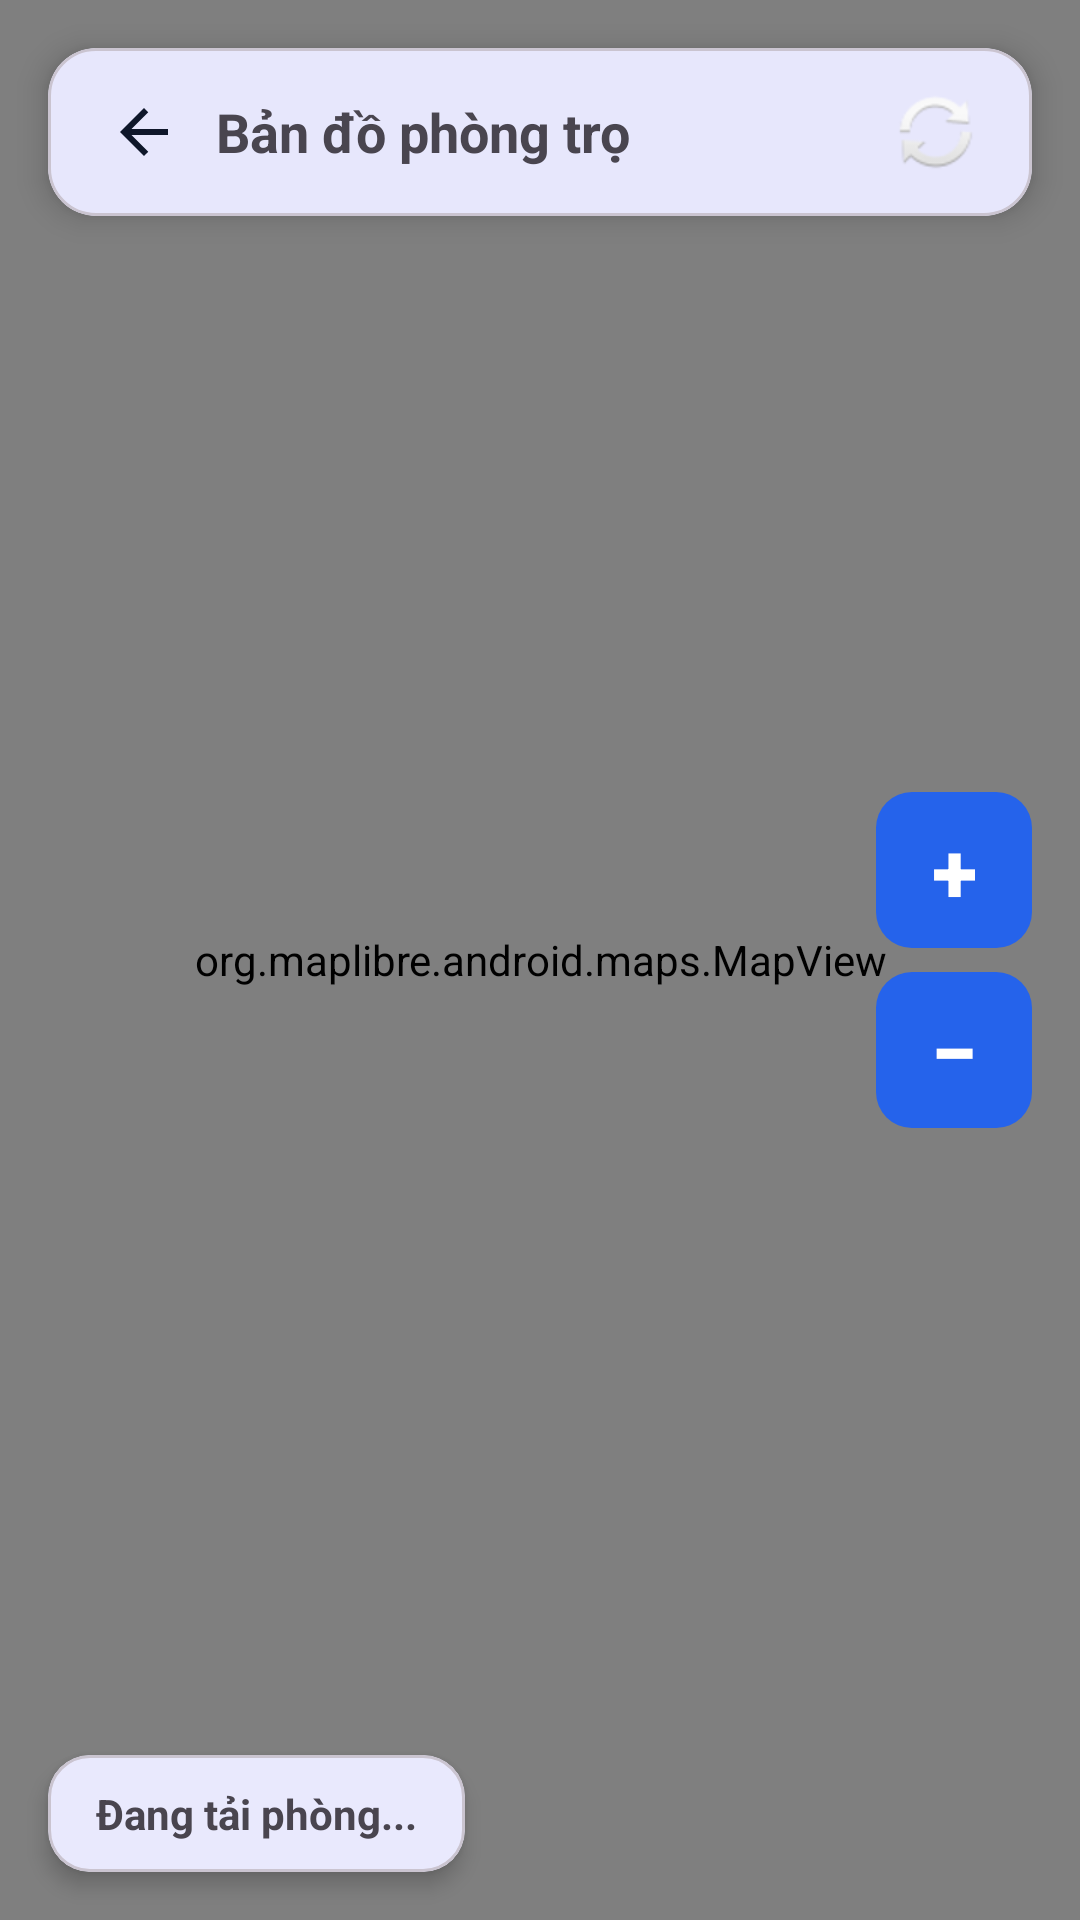

Named icons in this screenshot (1080*1920) and their bounding boxes, (x1, y1, x2, y2):
Quay lại: (120, 108, 168, 156)
Tải lại danh sách phòng: (900, 105, 970, 168)
